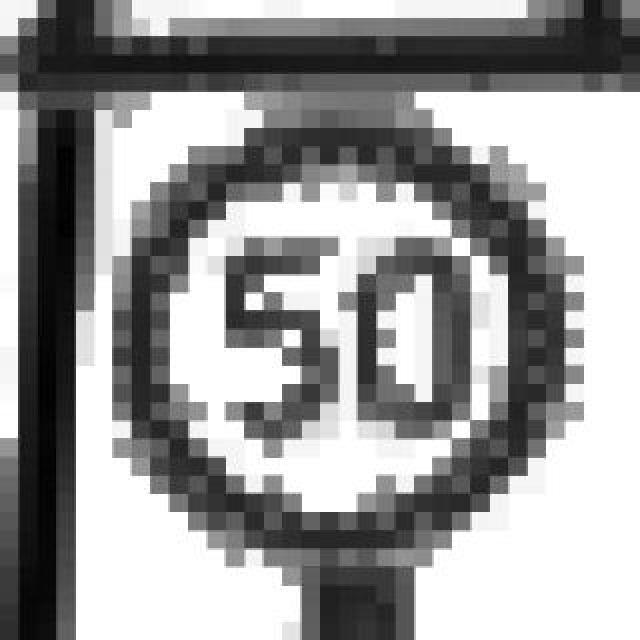50 kph: (94, 92, 546, 532)
